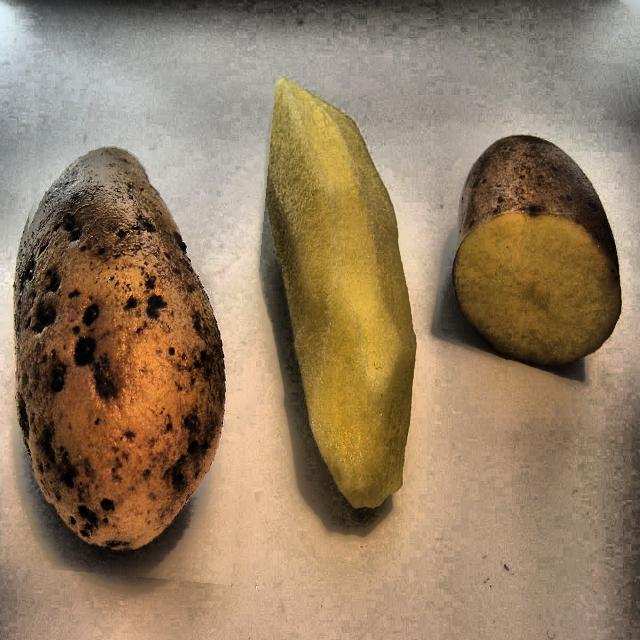potato: (10, 70, 264, 580)
